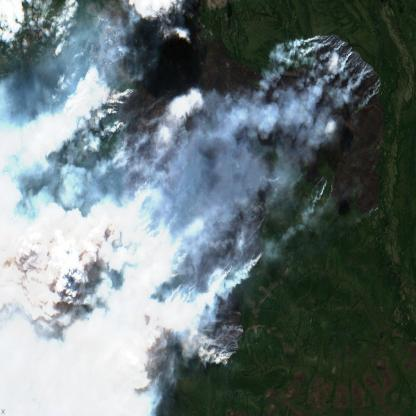fire: (97, 0, 384, 365)
